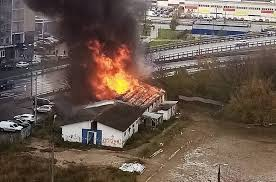fire: (82, 50, 169, 111)
